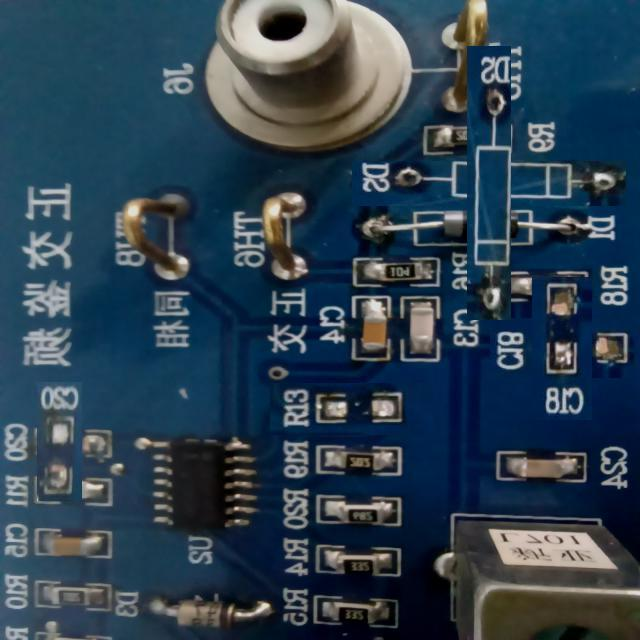miss_welding: (409, 104, 569, 263), (511, 297, 613, 399), (270, 383, 434, 435), (18, 401, 101, 483)
